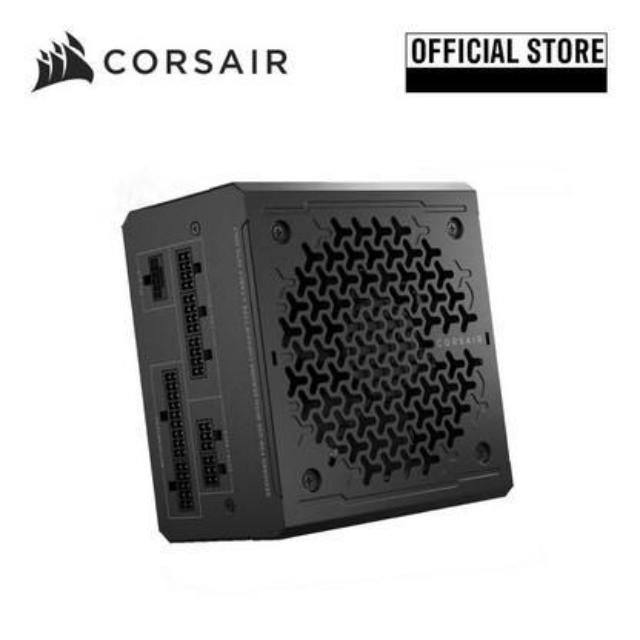PSU: (105, 172, 540, 562)
